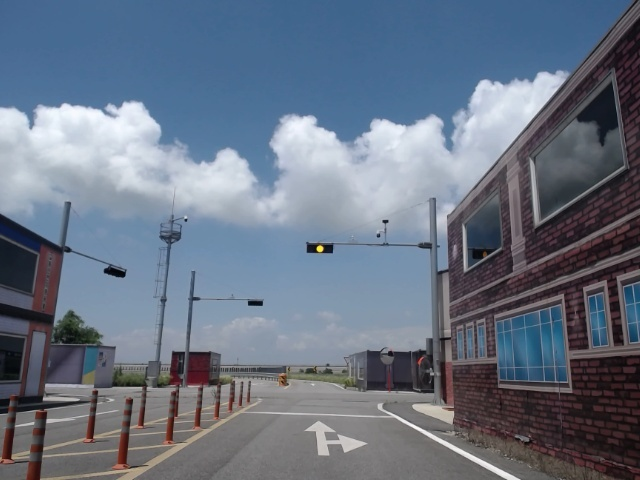orange_3: (307, 242, 333, 254)
